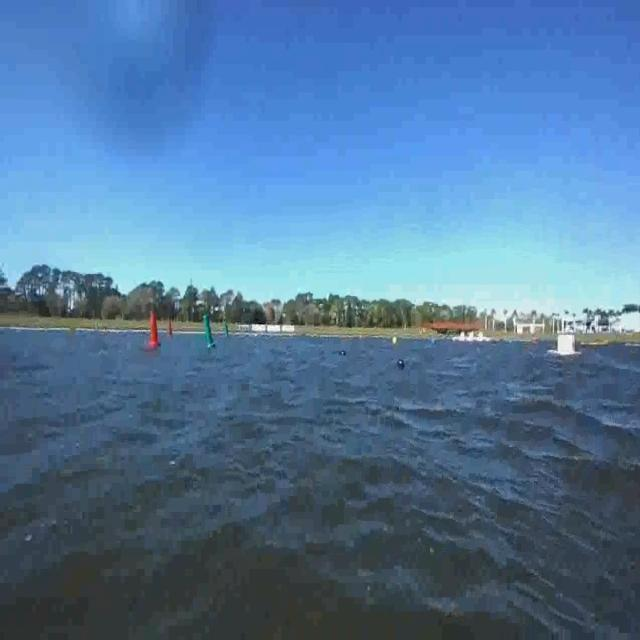black-buoy: (398, 360, 404, 370), (340, 349, 346, 357)
green-column-buoy: (203, 316, 217, 349), (225, 324, 229, 339)
red-column-buoy: (148, 312, 160, 352), (168, 317, 173, 338)
